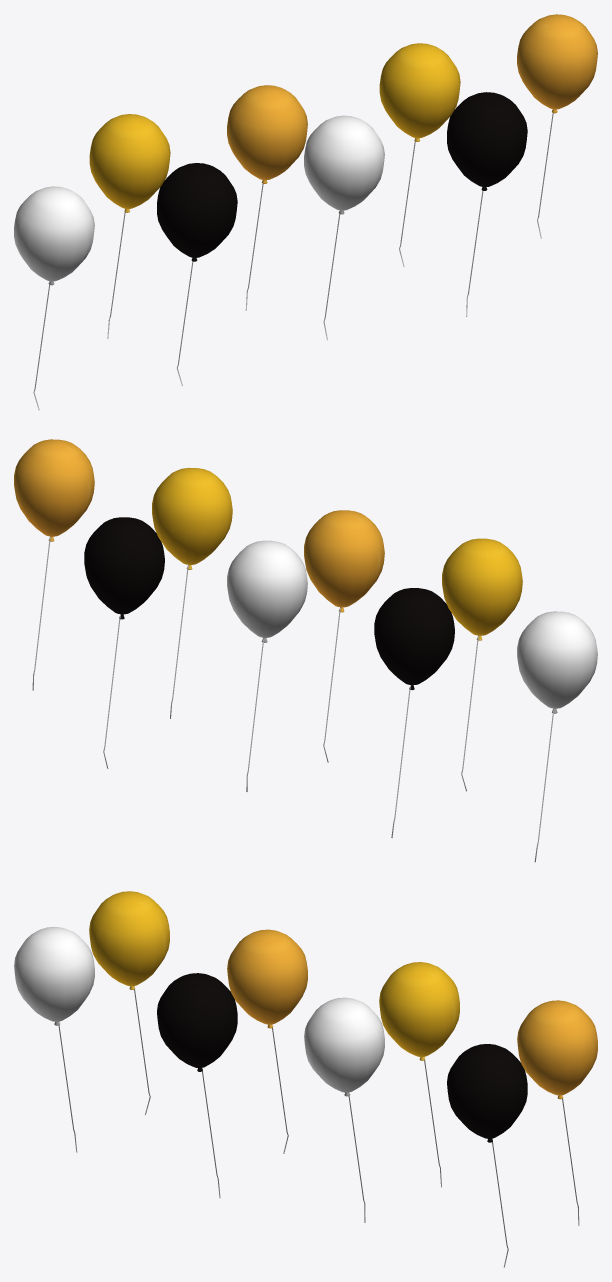
Rendered from PartyBalloons03_GR10_1.FBX.
3 views of the same model, one above another, from view 1: azimuth 30°, elevation 25°; view 2: azimuth 150°, elevation 25°; view 3: azimuth 330°, elevation 25° (orthographic).
Parts seen in each view (by area): view 1: PartyBalloons03_GR10_1; view 2: PartyBalloons03_GR10_1; view 3: PartyBalloons03_GR10_1.
Part boxes in pixels (x1=…): PartyBalloons03_GR10_1: x1=14, y1=14, x2=597, y2=410; PartyBalloons03_GR10_1: x1=14, y1=439, x2=597, y2=862; PartyBalloons03_GR10_1: x1=14, y1=891, x2=597, y2=1267.
Size of what is drawn, in the model's own units: 2.88 by 1.43 by 0.358.
